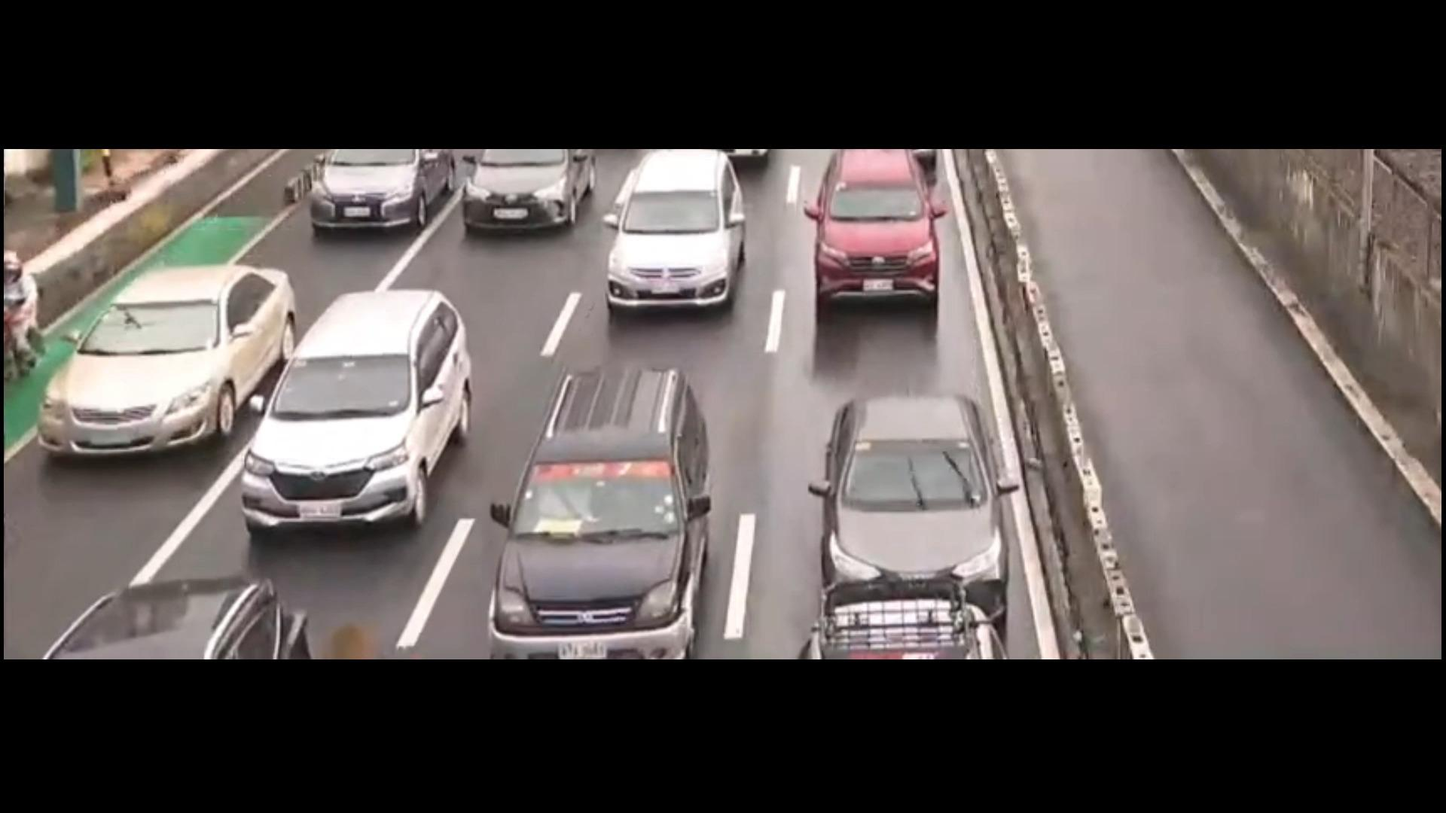Motorcycle: (0, 239, 49, 378)
SUV: (475, 354, 727, 657), (224, 279, 479, 535), (590, 155, 757, 312), (801, 147, 946, 319)
Sedan: (7, 238, 302, 465), (796, 377, 1002, 608)
